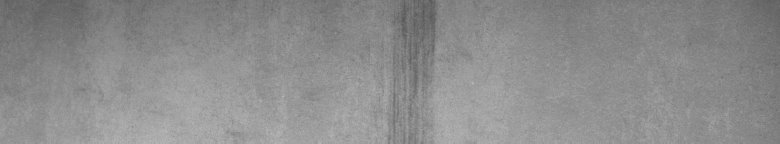ka: (384, 5, 440, 129)
